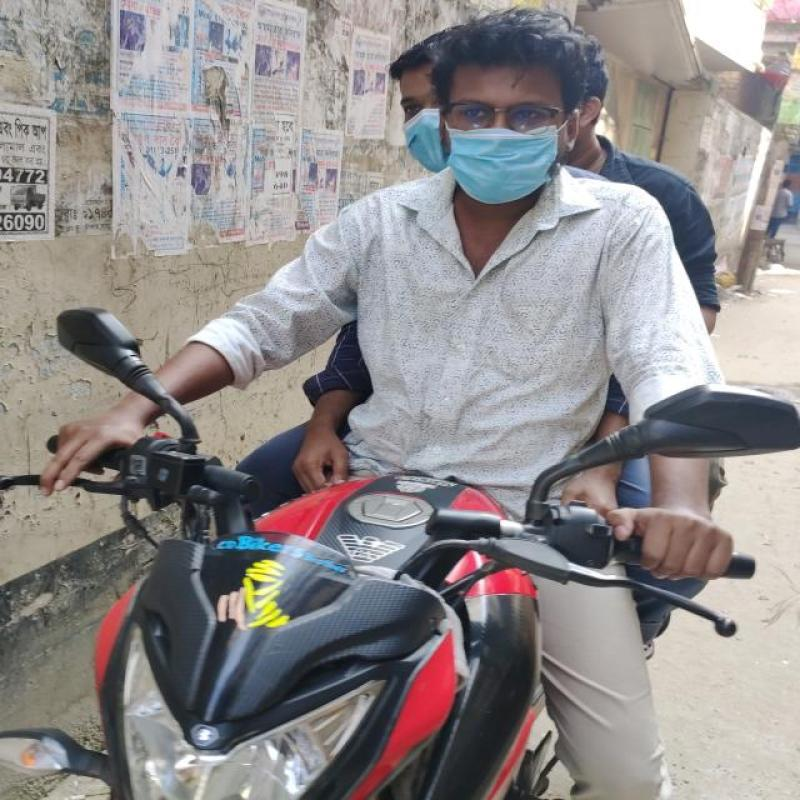nohelmet: (416, 6, 592, 209)
